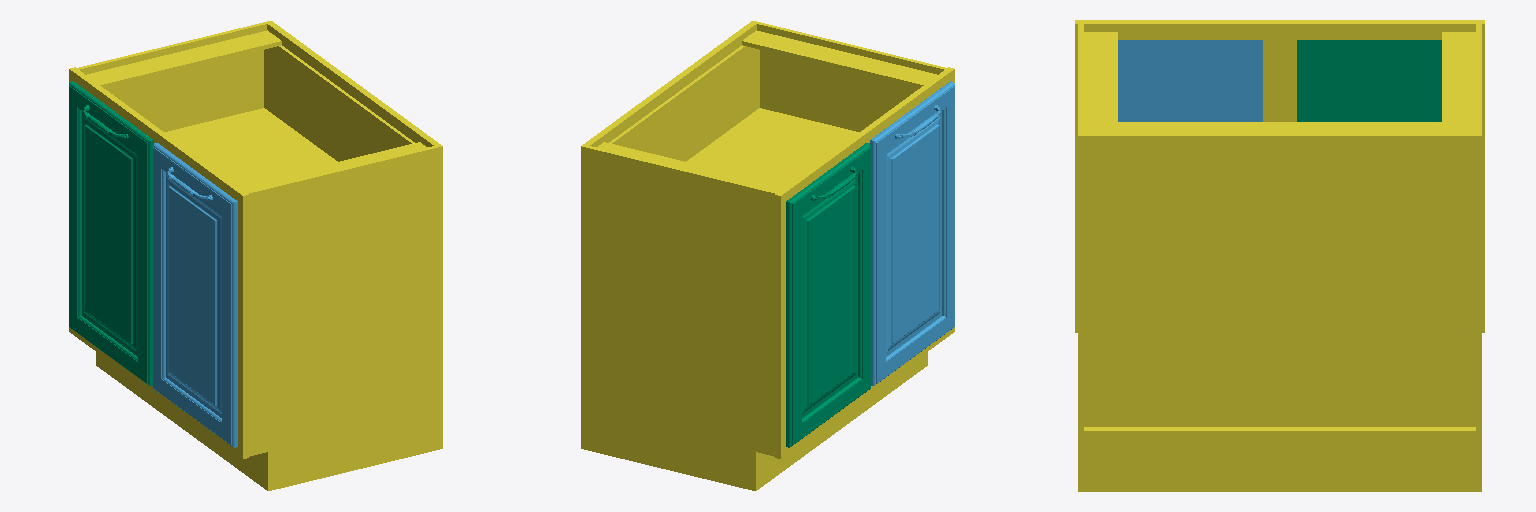
robot.urdf — partnet_1ff28690a2ba31e4da5feafe6f1c8fc:
<?xml version="1.0" ?>
<robot name="partnet_1ff28690a2ba31e4da5feafe6f1c8fc">
	<link name="base"/>
	<link name="link_0">
		<visual name="cabinet_door_surface-8">
			<origin xyz="-0.6210239988518922 -0.5862539348457146 -0.42957991660287126"/>
			<geometry>
				<mesh filename="textured_objs/original-51.obj"/>
			</geometry>
		</visual>
		<visual name="cabinet_door_surface-8">
			<origin xyz="-0.6210239988518922 -0.5862539348457146 -0.42957991660287126"/>
			<geometry>
				<mesh filename="textured_objs/original-45.obj"/>
			</geometry>
		</visual>
		<visual name="cabinet_door_surface-8">
			<origin xyz="-0.6210239988518922 -0.5862539348457146 -0.42957991660287126"/>
			<geometry>
				<mesh filename="textured_objs/original-55.obj"/>
			</geometry>
		</visual>
		<visual name="cabinet_door_surface-8">
			<origin xyz="-0.6210239988518922 -0.5862539348457146 -0.42957991660287126"/>
			<geometry>
				<mesh filename="textured_objs/original-49.obj"/>
			</geometry>
		</visual>
		<visual name="cabinet_door_surface-8">
			<origin xyz="-0.6210239988518922 -0.5862539348457146 -0.42957991660287126"/>
			<geometry>
				<mesh filename="textured_objs/original-52.obj"/>
			</geometry>
		</visual>
		<visual name="cabinet_door_surface-8">
			<origin xyz="-0.6210239988518922 -0.5862539348457146 -0.42957991660287126"/>
			<geometry>
				<mesh filename="textured_objs/original-46.obj"/>
			</geometry>
		</visual>
		<visual name="cabinet_door_surface-8">
			<origin xyz="-0.6210239988518922 -0.5862539348457146 -0.42957991660287126"/>
			<geometry>
				<mesh filename="textured_objs/original-48.obj"/>
			</geometry>
		</visual>
		<visual name="cabinet_door_surface-8">
			<origin xyz="-0.6210239988518922 -0.5862539348457146 -0.42957991660287126"/>
			<geometry>
				<mesh filename="textured_objs/original-50.obj"/>
			</geometry>
		</visual>
		<visual name="cabinet_door_surface-8">
			<origin xyz="-0.6210239988518922 -0.5862539348457146 -0.42957991660287126"/>
			<geometry>
				<mesh filename="textured_objs/original-47.obj"/>
			</geometry>
		</visual>
		<visual name="cabinet_door_surface-8">
			<origin xyz="-0.6210239988518922 -0.5862539348457146 -0.42957991660287126"/>
			<geometry>
				<mesh filename="textured_objs/original-54.obj"/>
			</geometry>
		</visual>
		<visual name="handle-9">
			<origin xyz="-0.6210239988518922 -0.5862539348457146 -0.42957991660287126"/>
			<geometry>
				<mesh filename="textured_objs/original-63.obj"/>
			</geometry>
		</visual>
		<visual name="handle-9">
			<origin xyz="-0.6210239988518922 -0.5862539348457146 -0.42957991660287126"/>
			<geometry>
				<mesh filename="textured_objs/original-59.obj"/>
			</geometry>
		</visual>
		<visual name="handle-9">
			<origin xyz="-0.6210239988518922 -0.5862539348457146 -0.42957991660287126"/>
			<geometry>
				<mesh filename="textured_objs/original-58.obj"/>
			</geometry>
		</visual>
		<visual name="handle-9">
			<origin xyz="-0.6210239988518922 -0.5862539348457146 -0.42957991660287126"/>
			<geometry>
				<mesh filename="textured_objs/original-61.obj"/>
			</geometry>
		</visual>
		<visual name="handle-9">
			<origin xyz="-0.6210239988518922 -0.5862539348457146 -0.42957991660287126"/>
			<geometry>
				<mesh filename="textured_objs/original-62.obj"/>
			</geometry>
		</visual>
		<collision>
			<origin xyz="-0.6210239988518922 -0.5862539348457146 -0.42957991660287126"/>
			<geometry>
				<mesh filename="textured_objs/original-51.obj"/>
			</geometry>
		</collision>
		<collision>
			<origin xyz="-0.6210239988518922 -0.5862539348457146 -0.42957991660287126"/>
			<geometry>
				<mesh filename="textured_objs/original-45.obj"/>
			</geometry>
		</collision>
		<collision>
			<origin xyz="-0.6210239988518922 -0.5862539348457146 -0.42957991660287126"/>
			<geometry>
				<mesh filename="textured_objs/original-55.obj"/>
			</geometry>
		</collision>
		<collision>
			<origin xyz="-0.6210239988518922 -0.5862539348457146 -0.42957991660287126"/>
			<geometry>
				<mesh filename="textured_objs/original-49.obj"/>
			</geometry>
		</collision>
		<collision>
			<origin xyz="-0.6210239988518922 -0.5862539348457146 -0.42957991660287126"/>
			<geometry>
				<mesh filename="textured_objs/original-52.obj"/>
			</geometry>
		</collision>
		<collision>
			<origin xyz="-0.6210239988518922 -0.5862539348457146 -0.42957991660287126"/>
			<geometry>
				<mesh filename="textured_objs/original-46.obj"/>
			</geometry>
		</collision>
		<collision>
			<origin xyz="-0.6210239988518922 -0.5862539348457146 -0.42957991660287126"/>
			<geometry>
				<mesh filename="textured_objs/original-48.obj"/>
			</geometry>
		</collision>
		<collision>
			<origin xyz="-0.6210239988518922 -0.5862539348457146 -0.42957991660287126"/>
			<geometry>
				<mesh filename="textured_objs/original-50.obj"/>
			</geometry>
		</collision>
		<collision>
			<origin xyz="-0.6210239988518922 -0.5862539348457146 -0.42957991660287126"/>
			<geometry>
				<mesh filename="textured_objs/original-47.obj"/>
			</geometry>
		</collision>
		<collision>
			<origin xyz="-0.6210239988518922 -0.5862539348457146 -0.42957991660287126"/>
			<geometry>
				<mesh filename="textured_objs/original-54.obj"/>
			</geometry>
		</collision>
		<collision>
			<origin xyz="-0.6210239988518922 -0.5862539348457146 -0.42957991660287126"/>
			<geometry>
				<mesh filename="textured_objs/original-63.obj"/>
			</geometry>
		</collision>
		<collision>
			<origin xyz="-0.6210239988518922 -0.5862539348457146 -0.42957991660287126"/>
			<geometry>
				<mesh filename="textured_objs/original-59.obj"/>
			</geometry>
		</collision>
		<collision>
			<origin xyz="-0.6210239988518922 -0.5862539348457146 -0.42957991660287126"/>
			<geometry>
				<mesh filename="textured_objs/original-58.obj"/>
			</geometry>
		</collision>
		<collision>
			<origin xyz="-0.6210239988518922 -0.5862539348457146 -0.42957991660287126"/>
			<geometry>
				<mesh filename="textured_objs/original-61.obj"/>
			</geometry>
		</collision>
		<collision>
			<origin xyz="-0.6210239988518922 -0.5862539348457146 -0.42957991660287126"/>
			<geometry>
				<mesh filename="textured_objs/original-62.obj"/>
			</geometry>
		</collision>
	</link>
	<joint name="joint_0" type="revolute">
		<origin xyz="0.6210239988518922 0.5862539348457146 0.42957991660287126"/>
		<axis xyz="0 0.999999759303235 -0.0006938252463070499"/>
		<child link="link_0"/>
		<parent link="link_2"/>
		<limit lower="0.0" upper="1.6901768476313088"/>
	</joint>
	<link name="link_1">
		<visual name="cabinet_door_surface-6">
			<origin xyz="0.6220198395232227 0.4520049923245246 -0.4296652698025115"/>
			<geometry>
				<mesh filename="textured_objs/original-35.obj"/>
			</geometry>
		</visual>
		<visual name="cabinet_door_surface-6">
			<origin xyz="0.6220198395232227 0.4520049923245246 -0.4296652698025115"/>
			<geometry>
				<mesh filename="textured_objs/original-31.obj"/>
			</geometry>
		</visual>
		<visual name="cabinet_door_surface-6">
			<origin xyz="0.6220198395232227 0.4520049923245246 -0.4296652698025115"/>
			<geometry>
				<mesh filename="textured_objs/original-25.obj"/>
			</geometry>
		</visual>
		<visual name="cabinet_door_surface-6">
			<origin xyz="0.6220198395232227 0.4520049923245246 -0.4296652698025115"/>
			<geometry>
				<mesh filename="textured_objs/original-29.obj"/>
			</geometry>
		</visual>
		<visual name="cabinet_door_surface-6">
			<origin xyz="0.6220198395232227 0.4520049923245246 -0.4296652698025115"/>
			<geometry>
				<mesh filename="textured_objs/original-26.obj"/>
			</geometry>
		</visual>
		<visual name="cabinet_door_surface-6">
			<origin xyz="0.6220198395232227 0.4520049923245246 -0.4296652698025115"/>
			<geometry>
				<mesh filename="textured_objs/original-32.obj"/>
			</geometry>
		</visual>
		<visual name="cabinet_door_surface-6">
			<origin xyz="0.6220198395232227 0.4520049923245246 -0.4296652698025115"/>
			<geometry>
				<mesh filename="textured_objs/original-28.obj"/>
			</geometry>
		</visual>
		<visual name="cabinet_door_surface-6">
			<origin xyz="0.6220198395232227 0.4520049923245246 -0.4296652698025115"/>
			<geometry>
				<mesh filename="textured_objs/original-30.obj"/>
			</geometry>
		</visual>
		<visual name="cabinet_door_surface-6">
			<origin xyz="0.6220198395232227 0.4520049923245246 -0.4296652698025115"/>
			<geometry>
				<mesh filename="textured_objs/original-27.obj"/>
			</geometry>
		</visual>
		<visual name="cabinet_door_surface-6">
			<origin xyz="0.6220198395232227 0.4520049923245246 -0.4296652698025115"/>
			<geometry>
				<mesh filename="textured_objs/original-34.obj"/>
			</geometry>
		</visual>
		<visual name="handle-7">
			<origin xyz="0.6220198395232227 0.4520049923245246 -0.4296652698025115"/>
			<geometry>
				<mesh filename="textured_objs/original-38.obj"/>
			</geometry>
		</visual>
		<visual name="handle-7">
			<origin xyz="0.6220198395232227 0.4520049923245246 -0.4296652698025115"/>
			<geometry>
				<mesh filename="textured_objs/original-39.obj"/>
			</geometry>
		</visual>
		<visual name="handle-7">
			<origin xyz="0.6220198395232227 0.4520049923245246 -0.4296652698025115"/>
			<geometry>
				<mesh filename="textured_objs/original-43.obj"/>
			</geometry>
		</visual>
		<visual name="handle-7">
			<origin xyz="0.6220198395232227 0.4520049923245246 -0.4296652698025115"/>
			<geometry>
				<mesh filename="textured_objs/original-41.obj"/>
			</geometry>
		</visual>
		<visual name="handle-7">
			<origin xyz="0.6220198395232227 0.4520049923245246 -0.4296652698025115"/>
			<geometry>
				<mesh filename="textured_objs/original-42.obj"/>
			</geometry>
		</visual>
		<collision>
			<origin xyz="0.6220198395232227 0.4520049923245246 -0.4296652698025115"/>
			<geometry>
				<mesh filename="textured_objs/original-35.obj"/>
			</geometry>
		</collision>
		<collision>
			<origin xyz="0.6220198395232227 0.4520049923245246 -0.4296652698025115"/>
			<geometry>
				<mesh filename="textured_objs/original-31.obj"/>
			</geometry>
		</collision>
		<collision>
			<origin xyz="0.6220198395232227 0.4520049923245246 -0.4296652698025115"/>
			<geometry>
				<mesh filename="textured_objs/original-25.obj"/>
			</geometry>
		</collision>
		<collision>
			<origin xyz="0.6220198395232227 0.4520049923245246 -0.4296652698025115"/>
			<geometry>
				<mesh filename="textured_objs/original-29.obj"/>
			</geometry>
		</collision>
		<collision>
			<origin xyz="0.6220198395232227 0.4520049923245246 -0.4296652698025115"/>
			<geometry>
				<mesh filename="textured_objs/original-26.obj"/>
			</geometry>
		</collision>
		<collision>
			<origin xyz="0.6220198395232227 0.4520049923245246 -0.4296652698025115"/>
			<geometry>
				<mesh filename="textured_objs/original-32.obj"/>
			</geometry>
		</collision>
		<collision>
			<origin xyz="0.6220198395232227 0.4520049923245246 -0.4296652698025115"/>
			<geometry>
				<mesh filename="textured_objs/original-28.obj"/>
			</geometry>
		</collision>
		<collision>
			<origin xyz="0.6220198395232227 0.4520049923245246 -0.4296652698025115"/>
			<geometry>
				<mesh filename="textured_objs/original-30.obj"/>
			</geometry>
		</collision>
		<collision>
			<origin xyz="0.6220198395232227 0.4520049923245246 -0.4296652698025115"/>
			<geometry>
				<mesh filename="textured_objs/original-27.obj"/>
			</geometry>
		</collision>
		<collision>
			<origin xyz="0.6220198395232227 0.4520049923245246 -0.4296652698025115"/>
			<geometry>
				<mesh filename="textured_objs/original-34.obj"/>
			</geometry>
		</collision>
		<collision>
			<origin xyz="0.6220198395232227 0.4520049923245246 -0.4296652698025115"/>
			<geometry>
				<mesh filename="textured_objs/original-38.obj"/>
			</geometry>
		</collision>
		<collision>
			<origin xyz="0.6220198395232227 0.4520049923245246 -0.4296652698025115"/>
			<geometry>
				<mesh filename="textured_objs/original-39.obj"/>
			</geometry>
		</collision>
		<collision>
			<origin xyz="0.6220198395232227 0.4520049923245246 -0.4296652698025115"/>
			<geometry>
				<mesh filename="textured_objs/original-43.obj"/>
			</geometry>
		</collision>
		<collision>
			<origin xyz="0.6220198395232227 0.4520049923245246 -0.4296652698025115"/>
			<geometry>
				<mesh filename="textured_objs/original-41.obj"/>
			</geometry>
		</collision>
		<collision>
			<origin xyz="0.6220198395232227 0.4520049923245246 -0.4296652698025115"/>
			<geometry>
				<mesh filename="textured_objs/original-42.obj"/>
			</geometry>
		</collision>
	</link>
	<joint name="joint_1" type="revolute">
		<origin xyz="-0.6220198395232227 -0.4520049923245246 0.4296652698025115"/>
		<axis xyz="0 -0.9999997593032349 -0.0006938252463070498"/>
		<child link="link_1"/>
		<parent link="link_2"/>
		<limit lower="0.0" upper="1.6461945504810518"/>
	</joint>
	<link name="link_2">
		<visual name="shelf-12">
			<origin xyz="0 0 0"/>
			<geometry>
				<mesh filename="textured_objs/original-2.obj"/>
			</geometry>
		</visual>
		<visual name="shelf-13">
			<origin xyz="0 0 0"/>
			<geometry>
				<mesh filename="textured_objs/original-23.obj"/>
			</geometry>
		</visual>
		<visual name="vertical_side_panel-19">
			<origin xyz="0 0 0"/>
			<geometry>
				<mesh filename="textured_objs/original-12.obj"/>
			</geometry>
		</visual>
		<visual name="vertical_side_panel-19">
			<origin xyz="0 0 0"/>
			<geometry>
				<mesh filename="textured_objs/original-11.obj"/>
			</geometry>
		</visual>
		<visual name="vertical_side_panel-20">
			<origin xyz="0 0 0"/>
			<geometry>
				<mesh filename="textured_objs/original-16.obj"/>
			</geometry>
		</visual>
		<visual name="vertical_side_panel-20">
			<origin xyz="0 0 0"/>
			<geometry>
				<mesh filename="textured_objs/original-15.obj"/>
			</geometry>
		</visual>
		<visual name="back_panel-21">
			<origin xyz="0 0 0"/>
			<geometry>
				<mesh filename="textured_objs/original-6.obj"/>
			</geometry>
		</visual>
		<visual name="bottom_panel-22">
			<origin xyz="0 0 0"/>
			<geometry>
				<mesh filename="textured_objs/original-3.obj"/>
			</geometry>
		</visual>
		<visual name="frame_vertical_bar-23">
			<origin xyz="0 0 0"/>
			<geometry>
				<mesh filename="textured_objs/original-4.obj"/>
			</geometry>
		</visual>
		<visual name="frame_vertical_bar-24">
			<origin xyz="0 0 0"/>
			<geometry>
				<mesh filename="textured_objs/original-18.obj"/>
			</geometry>
		</visual>
		<visual name="frame_horizontal_bar-25">
			<origin xyz="0 0 0"/>
			<geometry>
				<mesh filename="textured_objs/original-9.obj"/>
			</geometry>
		</visual>
		<visual name="frame_horizontal_bar-26">
			<origin xyz="0 0 0"/>
			<geometry>
				<mesh filename="textured_objs/original-22.obj"/>
			</geometry>
		</visual>
		<visual name="frame_horizontal_bar-27">
			<origin xyz="0 0 0"/>
			<geometry>
				<mesh filename="textured_objs/original-21.obj"/>
			</geometry>
		</visual>
		<visual name="frame_horizontal_bar-28">
			<origin xyz="0 0 0"/>
			<geometry>
				<mesh filename="textured_objs/original-5.obj"/>
			</geometry>
		</visual>
		<visual name="frame_horizontal_bar-29">
			<origin xyz="0 0 0"/>
			<geometry>
				<mesh filename="textured_objs/original-7.obj"/>
			</geometry>
		</visual>
		<visual name="frame_vertical_bar-30">
			<origin xyz="0 0 0"/>
			<geometry>
				<mesh filename="textured_objs/original-8.obj"/>
			</geometry>
		</visual>
		<visual name="other_leaf-32">
			<origin xyz="0 0 0"/>
			<geometry>
				<mesh filename="textured_objs/original-64.obj"/>
			</geometry>
		</visual>
		<visual name="base_side_panel-15">
			<origin xyz="0 0 0"/>
			<geometry>
				<mesh filename="textured_objs/original-17.obj"/>
			</geometry>
		</visual>
		<visual name="base_side_panel-16">
			<origin xyz="0 0 0"/>
			<geometry>
				<mesh filename="textured_objs/original-19.obj"/>
			</geometry>
		</visual>
		<visual name="base_side_panel-17">
			<origin xyz="0 0 0"/>
			<geometry>
				<mesh filename="textured_objs/original-13.obj"/>
			</geometry>
		</visual>
		<visual name="base_side_panel-18">
			<origin xyz="0 0 0"/>
			<geometry>
				<mesh filename="textured_objs/original-20.obj"/>
			</geometry>
		</visual>
		<collision>
			<origin xyz="0 0 0"/>
			<geometry>
				<mesh filename="textured_objs/original-2.obj"/>
			</geometry>
		</collision>
		<collision>
			<origin xyz="0 0 0"/>
			<geometry>
				<mesh filename="textured_objs/original-23.obj"/>
			</geometry>
		</collision>
		<collision>
			<origin xyz="0 0 0"/>
			<geometry>
				<mesh filename="textured_objs/original-12.obj"/>
			</geometry>
		</collision>
		<collision>
			<origin xyz="0 0 0"/>
			<geometry>
				<mesh filename="textured_objs/original-11.obj"/>
			</geometry>
		</collision>
		<collision>
			<origin xyz="0 0 0"/>
			<geometry>
				<mesh filename="textured_objs/original-16.obj"/>
			</geometry>
		</collision>
		<collision>
			<origin xyz="0 0 0"/>
			<geometry>
				<mesh filename="textured_objs/original-15.obj"/>
			</geometry>
		</collision>
		<collision>
			<origin xyz="0 0 0"/>
			<geometry>
				<mesh filename="textured_objs/original-6.obj"/>
			</geometry>
		</collision>
		<collision>
			<origin xyz="0 0 0"/>
			<geometry>
				<mesh filename="textured_objs/original-3.obj"/>
			</geometry>
		</collision>
		<collision>
			<origin xyz="0 0 0"/>
			<geometry>
				<mesh filename="textured_objs/original-4.obj"/>
			</geometry>
		</collision>
		<collision>
			<origin xyz="0 0 0"/>
			<geometry>
				<mesh filename="textured_objs/original-18.obj"/>
			</geometry>
		</collision>
		<collision>
			<origin xyz="0 0 0"/>
			<geometry>
				<mesh filename="textured_objs/original-9.obj"/>
			</geometry>
		</collision>
		<collision>
			<origin xyz="0 0 0"/>
			<geometry>
				<mesh filename="textured_objs/original-22.obj"/>
			</geometry>
		</collision>
		<collision>
			<origin xyz="0 0 0"/>
			<geometry>
				<mesh filename="textured_objs/original-21.obj"/>
			</geometry>
		</collision>
		<collision>
			<origin xyz="0 0 0"/>
			<geometry>
				<mesh filename="textured_objs/original-5.obj"/>
			</geometry>
		</collision>
		<collision>
			<origin xyz="0 0 0"/>
			<geometry>
				<mesh filename="textured_objs/original-7.obj"/>
			</geometry>
		</collision>
		<collision>
			<origin xyz="0 0 0"/>
			<geometry>
				<mesh filename="textured_objs/original-8.obj"/>
			</geometry>
		</collision>
		<collision>
			<origin xyz="0 0 0"/>
			<geometry>
				<mesh filename="textured_objs/original-64.obj"/>
			</geometry>
		</collision>
		<collision>
			<origin xyz="0 0 0"/>
			<geometry>
				<mesh filename="textured_objs/original-17.obj"/>
			</geometry>
		</collision>
		<collision>
			<origin xyz="0 0 0"/>
			<geometry>
				<mesh filename="textured_objs/original-19.obj"/>
			</geometry>
		</collision>
		<collision>
			<origin xyz="0 0 0"/>
			<geometry>
				<mesh filename="textured_objs/original-13.obj"/>
			</geometry>
		</collision>
		<collision>
			<origin xyz="0 0 0"/>
			<geometry>
				<mesh filename="textured_objs/original-20.obj"/>
			</geometry>
		</collision>
	</link>
	<joint name="joint_2" type="fixed">
		<origin rpy="1.570796326794897 0 -1.570796326794897" xyz="0 0 0"/>
		<child link="link_2"/>
		<parent link="base"/>
	</joint>
</robot>

--- What the picture shows (computed from the rendered views, not written in the file) ---
Views: 3 orthographic renders of the robot side by side, from view 1: azimuth 30°, elevation 25°; view 2: azimuth 150°, elevation 25°; view 3: azimuth 270°, elevation 25°.
Model partnet_1ff28690a2ba31e4da5feafe6f1c8fc with 4 links and 3 joints (2 revolute, 1 fixed), rooted at base, posed all joints at 0.
Visible links, largest first — view 1: link_2, link_0, link_1; view 2: link_2, link_1, link_0; view 3: link_2, link_0, link_1.
Link boxes in pixels (x1,y1,x2,y2): link_2: (69, 21, 442, 490); link_0: (153, 143, 237, 447); link_1: (69, 81, 153, 385); link_2: (581, 21, 954, 490); link_1: (786, 143, 870, 447); link_0: (870, 81, 954, 385); link_2: (1075, 20, 1484, 491); link_0: (1118, 40, 1262, 121); link_1: (1297, 40, 1441, 121).
Size in the robot's own frame: 0.9699 by 1.33 by 1.28 metres.
51 mesh visuals loaded from 51 distinct referenced files (51 OBJ).
